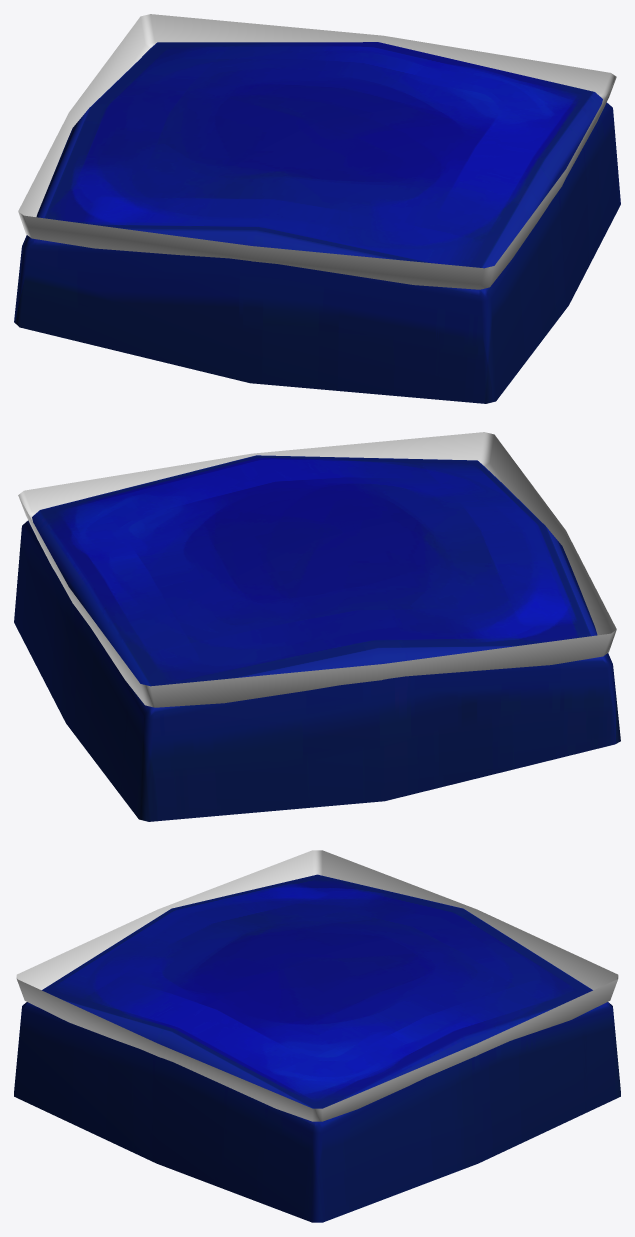
File: simonbutton-top.fbx
3 renders of one model, top to bottom at view 1: azimuth 30°, elevation 25°; view 2: azimuth 150°, elevation 25°; view 3: azimuth 270°, elevation 25°, orthographic. The views are drawn at different scales.
Parts seen in each view (by area): view 1: button, button_top_highlight; view 2: button, button_top_highlight; view 3: button, button_top_highlight.
Boxes of the visible parts, box(x1,y1,x2,y2) form: button: box(14, 42, 620, 403); button_top_highlight: box(18, 14, 616, 289); button: box(14, 455, 620, 821); button_top_highlight: box(18, 432, 616, 707); button: box(14, 874, 620, 1222); button_top_highlight: box(16, 850, 618, 1121).
Size of the model in its own units: 0.0736 by 0.0181 by 0.0736.
Materials: 1 (1 with a texture image).
